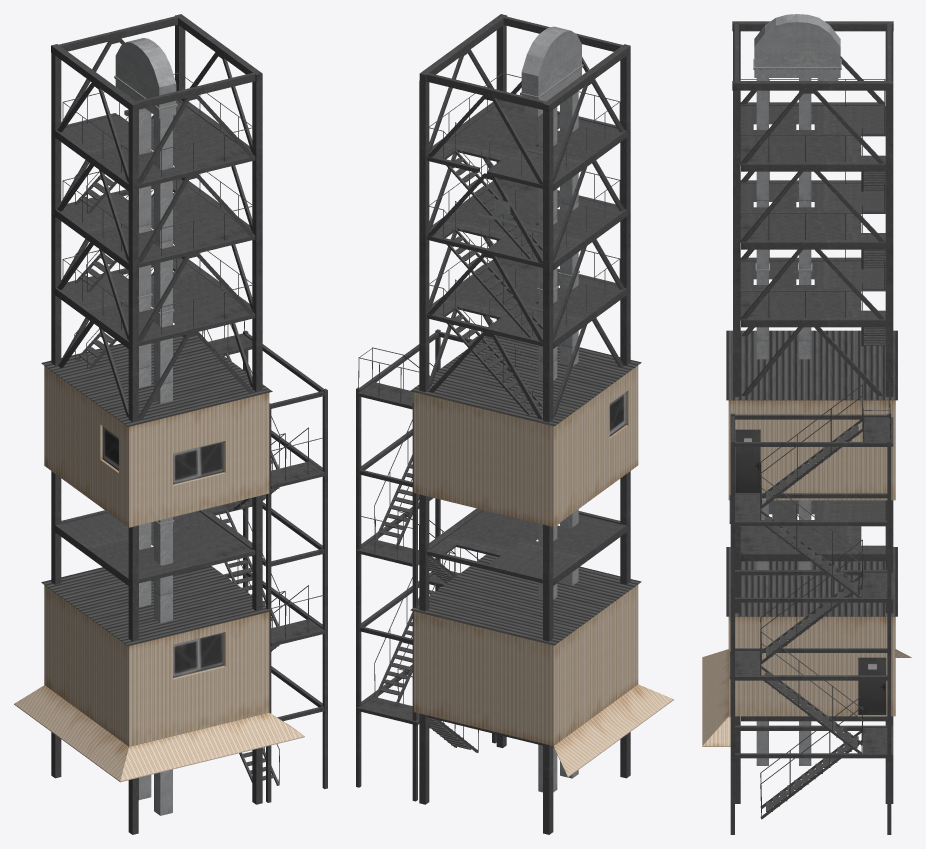
File: plant-tower2.glb
3 renders of one model, left to right at view 1: azimuth 30°, elevation 25°; view 2: azimuth 150°, elevation 25°; view 3: azimuth 270°, elevation 25°, orthographic.
Visible parts, largest first — view 1: Object8932101; view 2: Object8932101; view 3: Object8932101.
Boxes of the visible parts, bbox=[...] form: Object8932101: bbox=[14, 14, 327, 834]; Object8932101: bbox=[356, 14, 673, 834]; Object8932101: bbox=[702, 14, 911, 834].
Size of the model in its own units: 11.6 by 37.75 by 9.6.
1 material, 1 textured.
